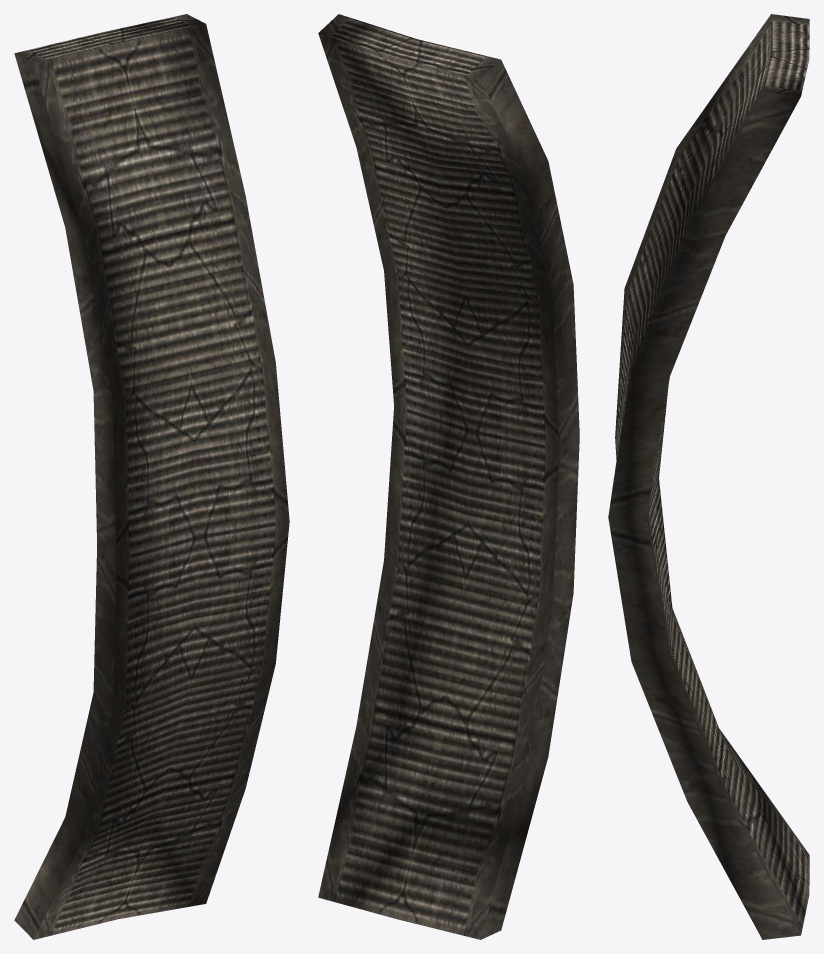
The model's file is bridge_05.obj.
3 renders of one model, left to right at view 1: azimuth 30°, elevation 25°; view 2: azimuth 150°, elevation 25°; view 3: azimuth 270°, elevation 25°, orthographic. The views are drawn at different scales.
Parts seen in each view (by area): view 1: (null); view 2: (null); view 3: (null).
Part boxes in pixels (x1,y1,x2,y2): (null): (14, 14, 289, 939); (null): (318, 14, 579, 939); (null): (608, 14, 809, 939).
Size of the model in its own units: 1.98 by 9.64 by 2.07.
